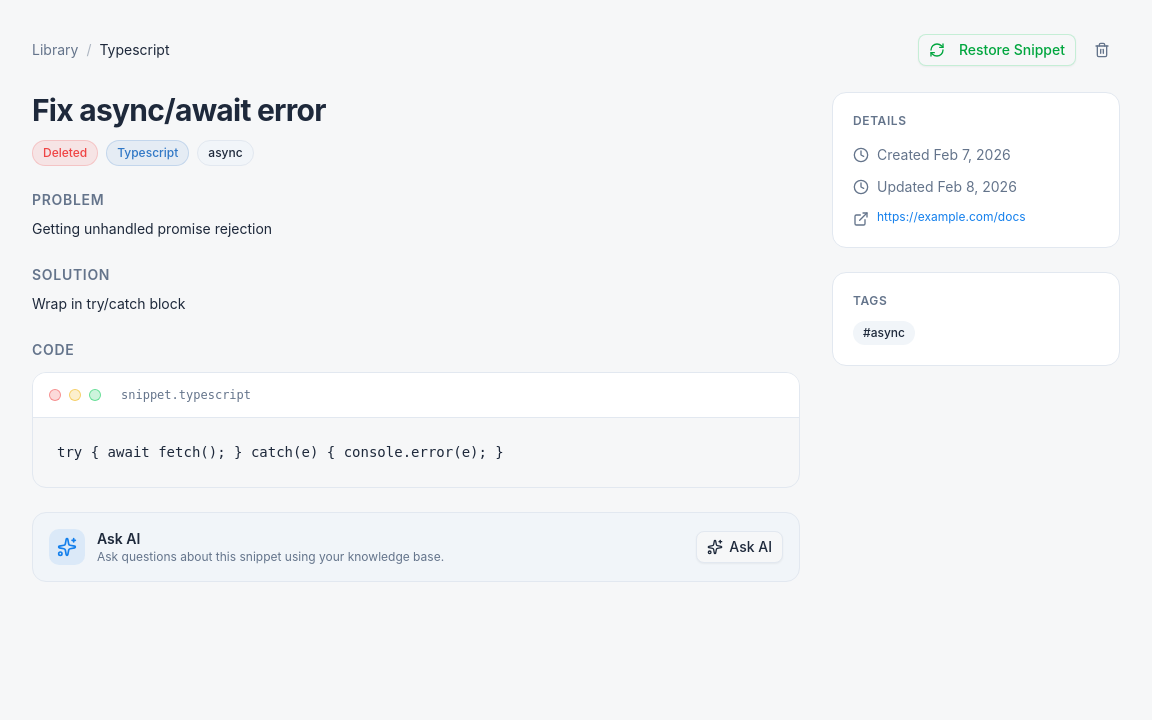
Test: SnippetDetail › shows delete permanently when isDeleted is true
Click the button named "Delete snippet".
click(1102, 50)  # box [1084, 32, 1120, 68]
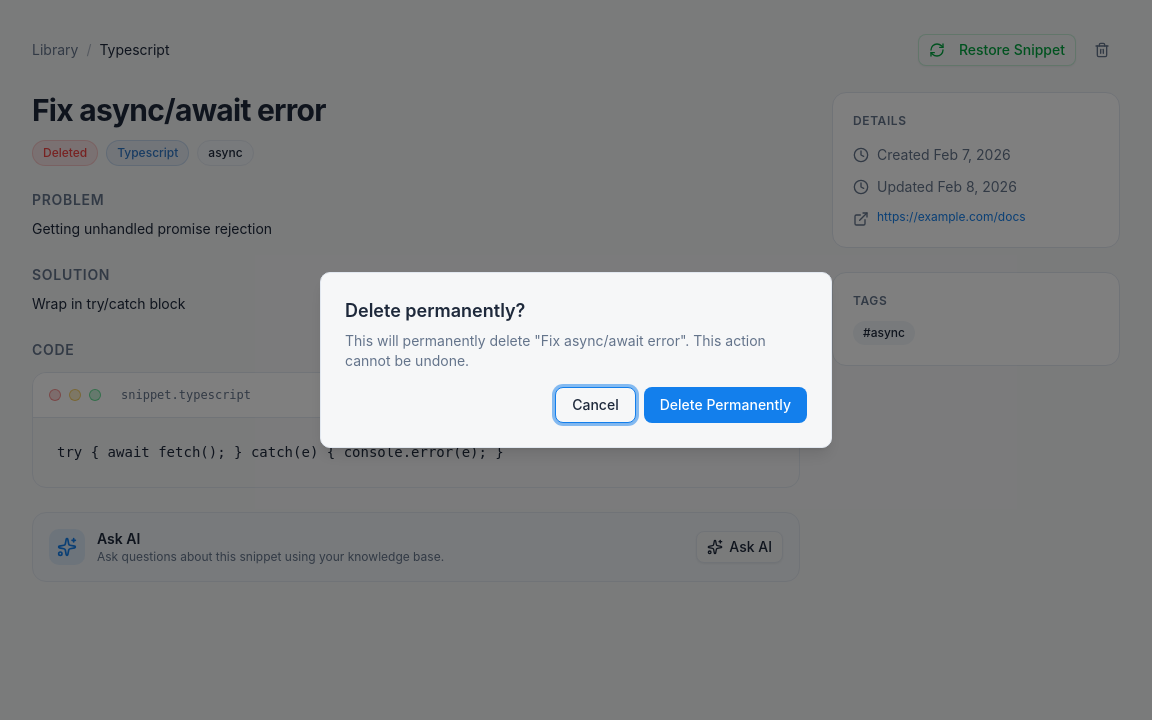
Expected: the button "Delete Permanently" is shown, [644, 387, 807, 423]
